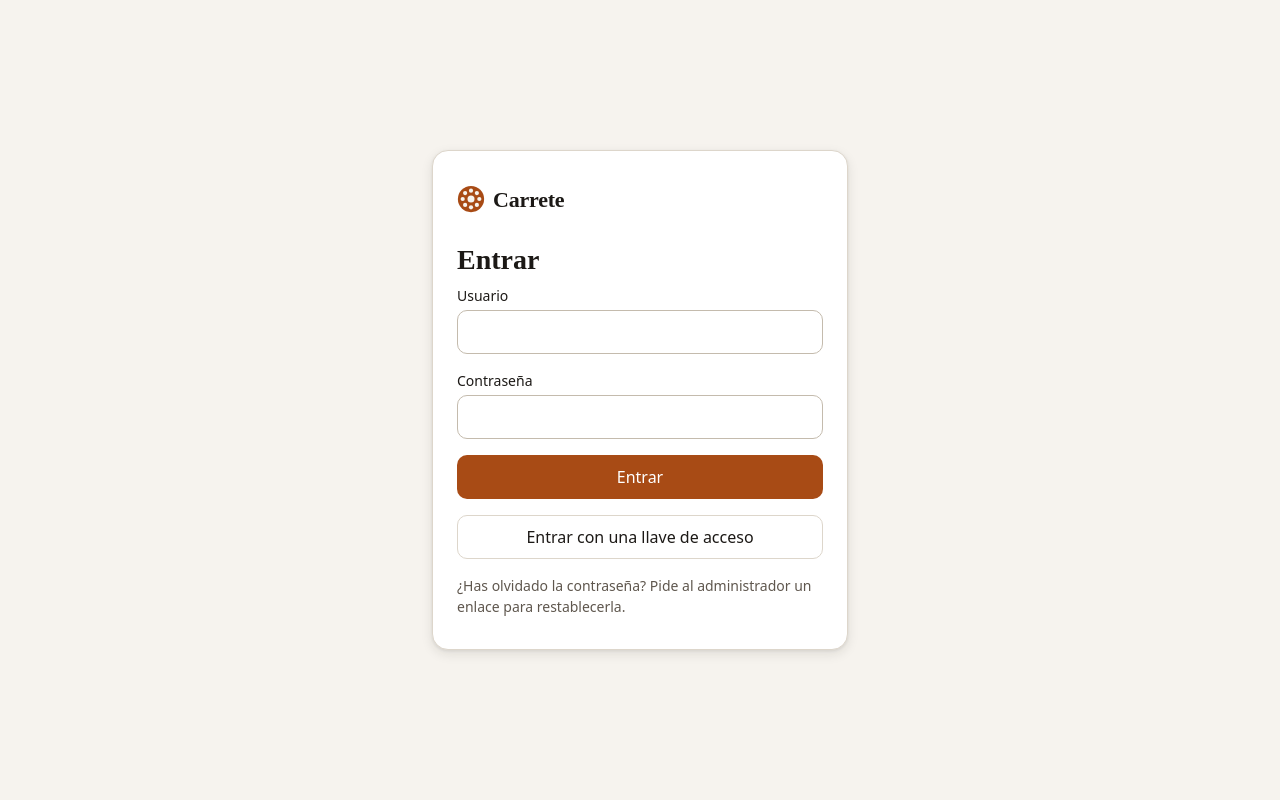
Test: llaves de acceso › entra con una llave desde la pantalla de acceso
Click the button "Entrar con una llave de acceso" at (640, 537), box [457,515,823,559]
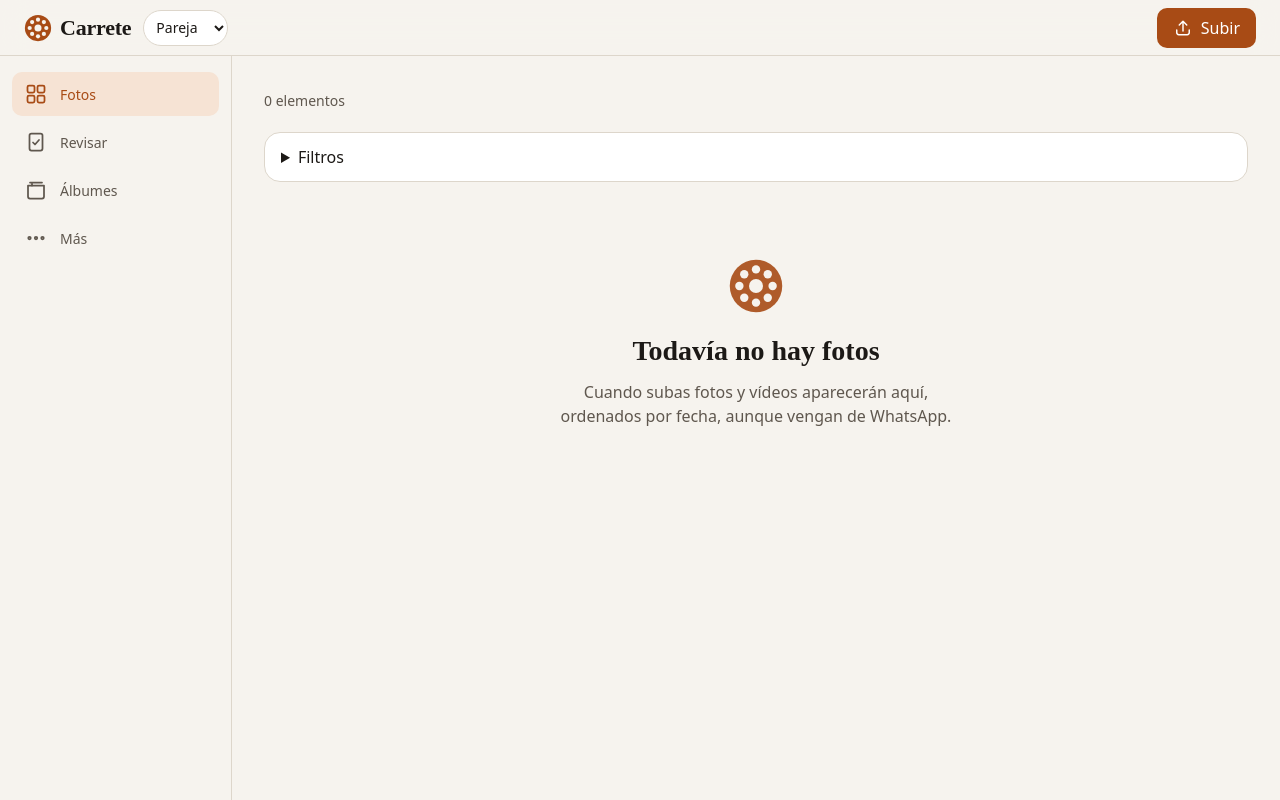
Expected: the heading "Todavía no hay fotos" is shown, [632,334,880,368]
